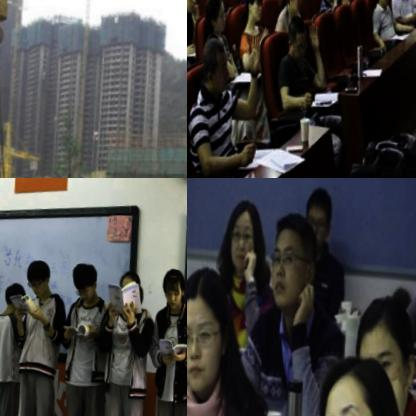head: (352, 274, 416, 411), (315, 343, 413, 416), (187, 263, 237, 387), (266, 207, 323, 308), (222, 193, 273, 286), (298, 180, 336, 254), (203, 34, 235, 90), (71, 260, 104, 302), (119, 265, 147, 306), (289, 12, 313, 58), (163, 261, 187, 307), (27, 258, 54, 298), (203, 0, 231, 37), (5, 279, 30, 317), (246, 0, 265, 19), (284, 0, 306, 14)
